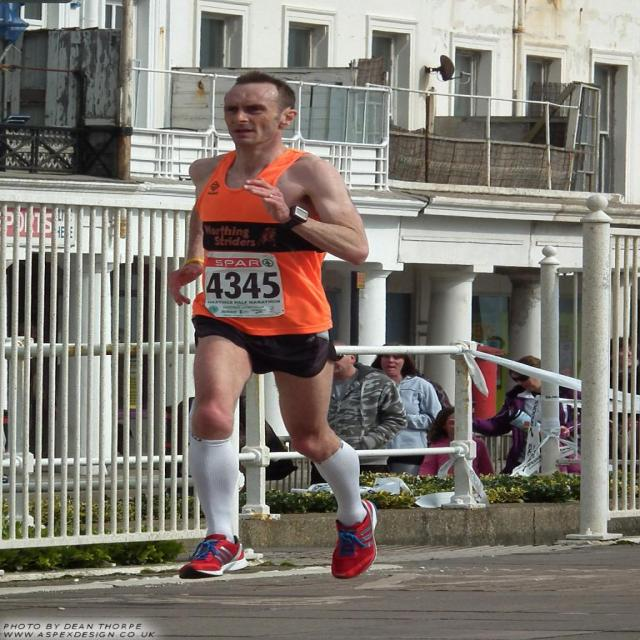Bib: (204, 270, 280, 300)
